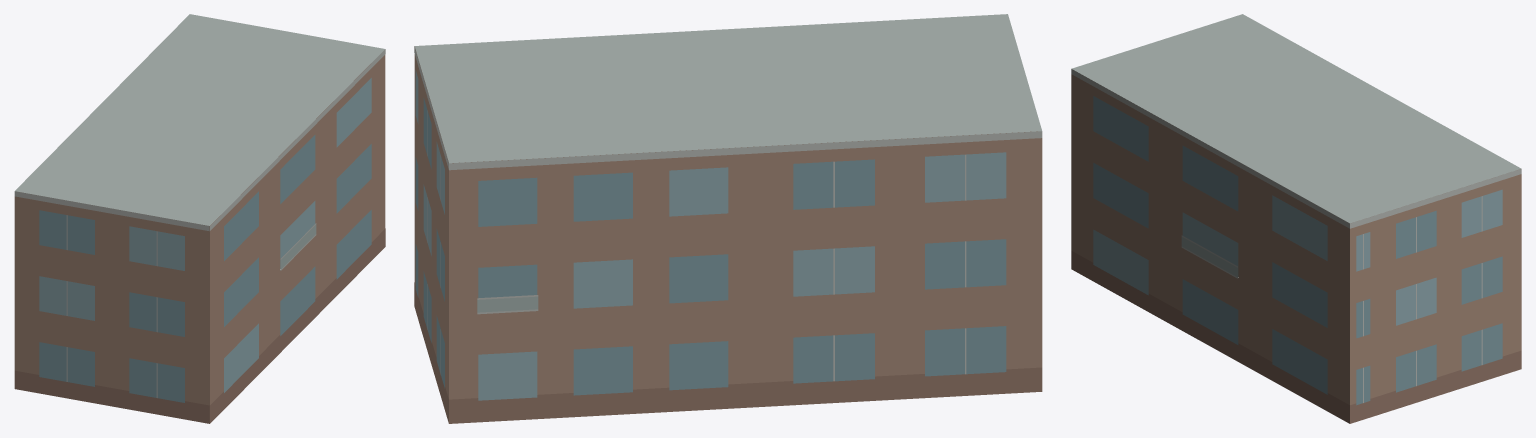
Rendered from survey-upis-32778443.glb.
The picture shows the model from 3 angles, left to right: view 1: azimuth 30°, elevation 25°; view 2: azimuth 150°, elevation 25°; view 3: azimuth 270°, elevation 25°; orthographic projection. The views are drawn at different scales.
Parts seen in each view (by area): view 1: survey-upis-32778443.tmp; view 2: survey-upis-32778443.tmp; view 3: survey-upis-32778443.tmp.
Boxes of the visible parts, x1=… form: survey-upis-32778443.tmp: x1=14, y1=14, x2=385, y2=423; survey-upis-32778443.tmp: x1=414, y1=14, x2=1042, y2=423; survey-upis-32778443.tmp: x1=1071, y1=14, x2=1521, y2=423.
Bounding box in the file's own units: 20.51 × 9.15 × 18.64.
